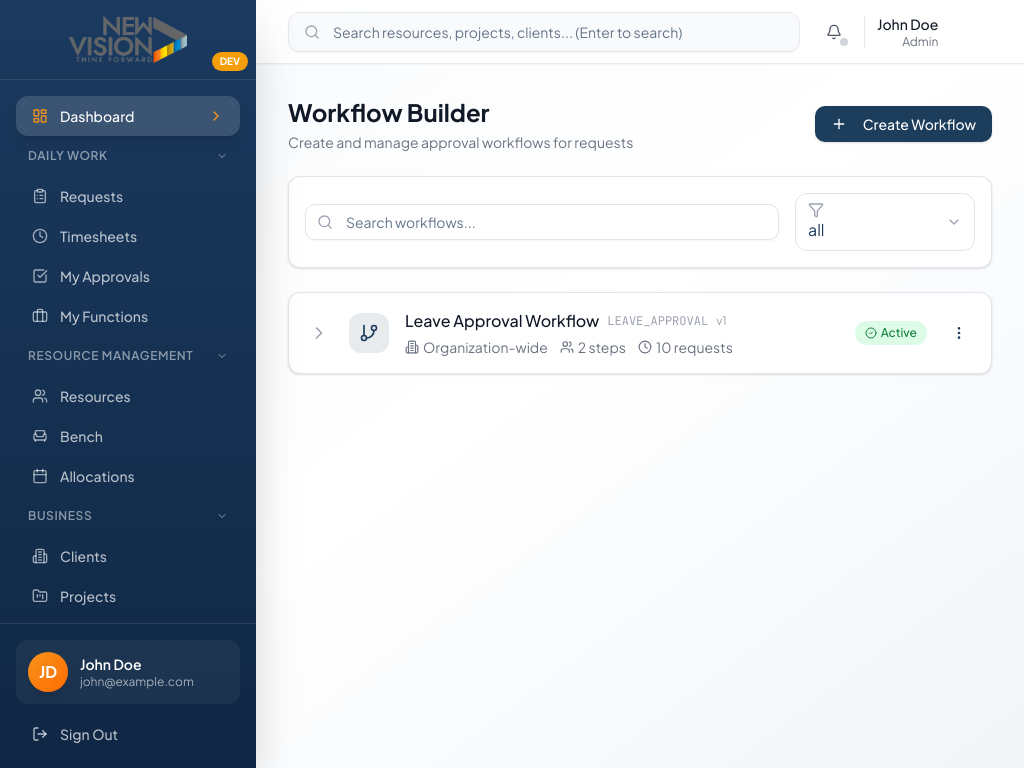
WorkflowEditor › adds a new step
The image size is (1024, 768).
Click the button "Create Workflow": [903, 124] box 815,106 -> 992,142
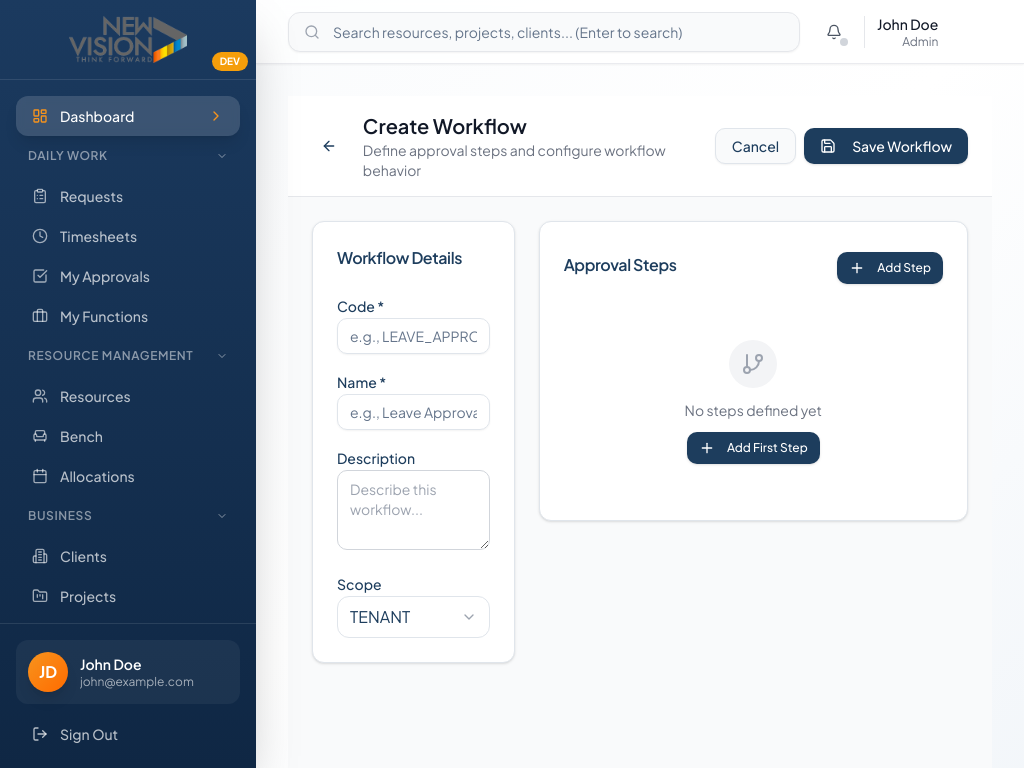
Check: the heading "Create Workflow" is shown, box 363,113 -> 527,138
// Click add step
Click the button "Add Step": [890, 268] box 837,252 -> 943,284
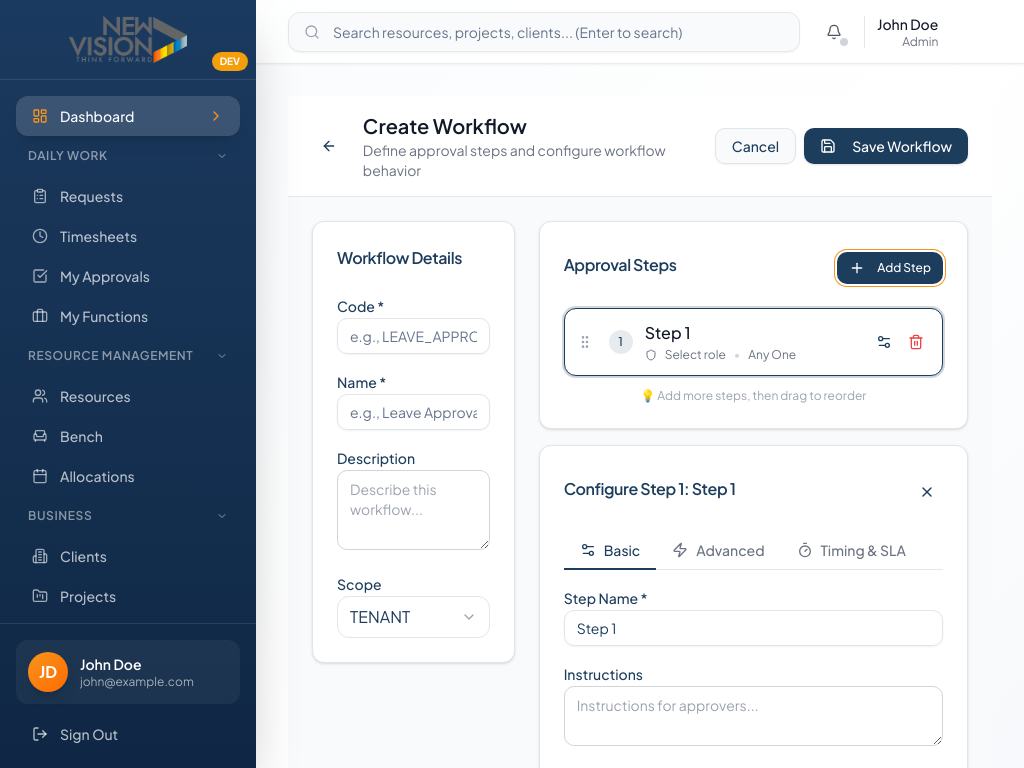
Check: the text "Step 1" is shown, box 645,321 -> 690,345
